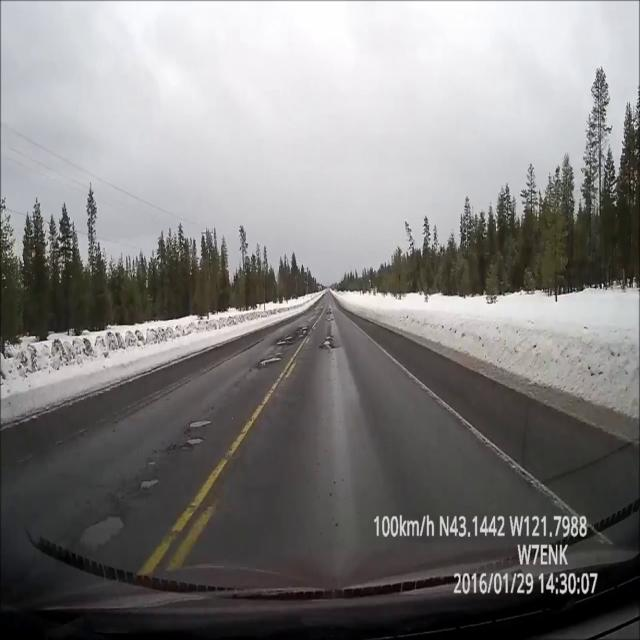Pothole: (77, 514, 126, 548), (186, 418, 211, 429), (260, 356, 281, 366), (320, 336, 334, 351), (187, 436, 206, 446), (277, 336, 293, 345), (298, 326, 309, 338), (325, 311, 333, 315), (326, 318, 333, 321)
